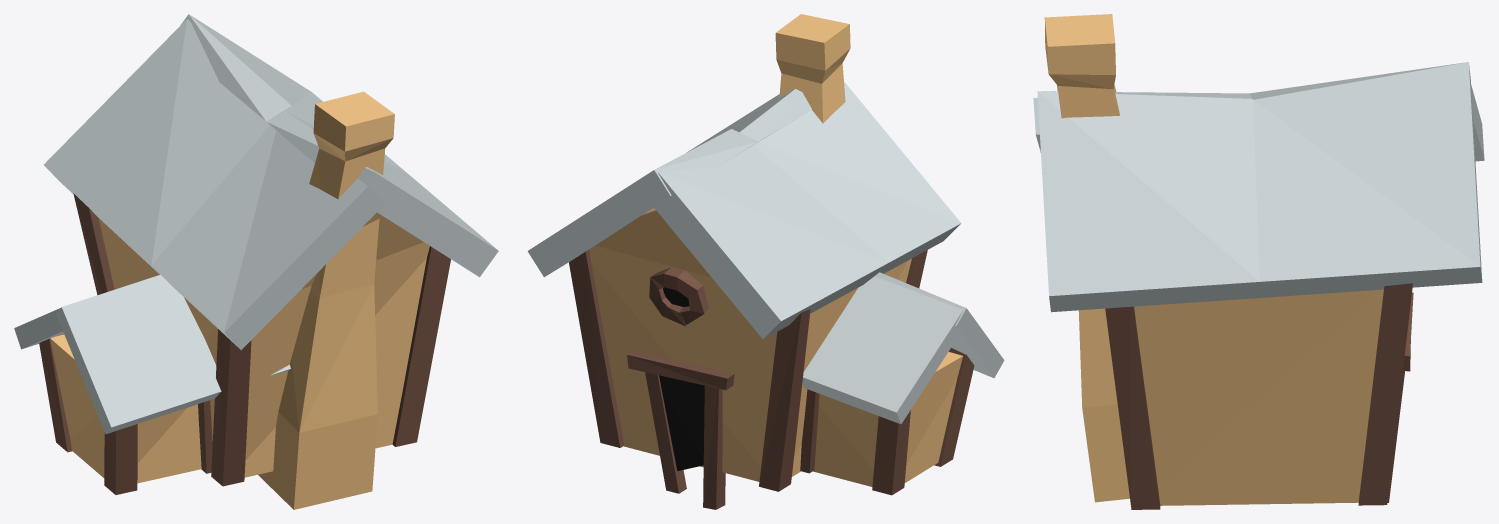
Rendered from shackTest.fbx.
3 renders of one model, left to right at view 1: azimuth 30°, elevation 25°; view 2: azimuth 150°, elevation 25°; view 3: azimuth 270°, elevation 25°, orthographic. The views are drawn at different scales.
Parts seen in each view (by area): view 1: group925804725, group1865352637, group315709941, group1644776486, group1576307836, group48822769, group1410908465, group971171973, group1275609310, group1125832583, group644162250, group1411457819 (+1 smaller); view 2: group925804725, group1644776486, group1411457819, group1576307836, group48822769, group1865352637, group1125832583, group498885737, group118462235, group1105696584, group644162250, group315709941 (+5 smaller); view 3: group1576307836, group1644776486, group1865352637, group498885737, group971171973, group925804725.
Part boxes in pixels (bbox=[...]): group925804725: bbox=[44, 19, 384, 350]; group1865352637: bbox=[258, 91, 394, 509]; group315709941: bbox=[56, 274, 290, 434]; group1644776486: bbox=[98, 212, 429, 477]; group1576307836: bbox=[180, 14, 498, 277]; group48822769: bbox=[50, 334, 201, 483]; group1410908465: bbox=[211, 329, 251, 486]; group971171973: bbox=[392, 246, 450, 446]; group1275609310: bbox=[104, 424, 137, 494]; group1125832583: bbox=[73, 193, 114, 295]; group644162250: bbox=[39, 334, 71, 452]; group1411457819: bbox=[14, 308, 63, 349]; group925804725: bbox=[654, 81, 961, 339]; group1644776486: bbox=[589, 208, 911, 481]; group1411457819: bbox=[802, 276, 963, 424]; group1576307836: bbox=[527, 89, 811, 277]; group48822769: bbox=[813, 351, 962, 486]; group1865352637: bbox=[775, 14, 850, 123]; group1125832583: bbox=[759, 309, 810, 491]; group498885737: bbox=[569, 250, 624, 447]; group118462235: bbox=[659, 375, 704, 471]; group1105696584: bbox=[703, 385, 725, 509]; group644162250: bbox=[872, 410, 910, 495]; group315709941: bbox=[874, 272, 1004, 377]; group1576307836: bbox=[1037, 62, 1482, 312]; group1644776486: bbox=[1134, 289, 1383, 505]; group1865352637: bbox=[1044, 14, 1129, 502]; group498885737: bbox=[1358, 283, 1412, 505]; group971171973: bbox=[1105, 306, 1160, 509]; group925804725: bbox=[1033, 84, 1484, 161].
Bounding box in the file's own units: 50.47 × 54.56 × 47.17.
